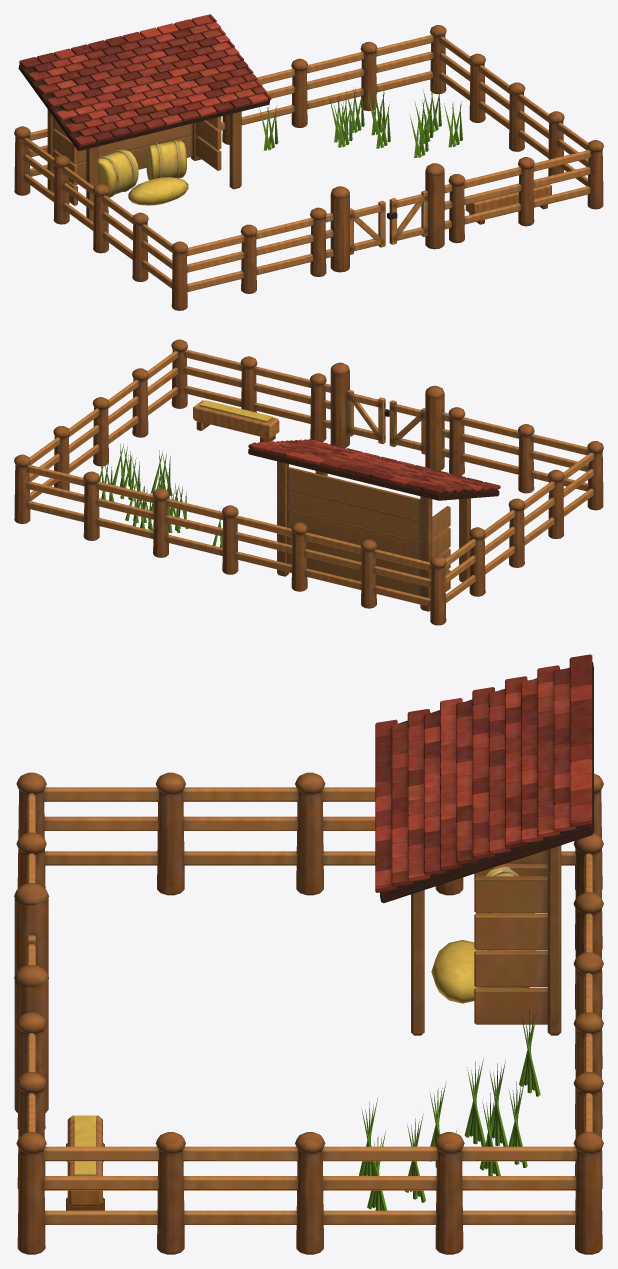
File: pheasant_run.glb
3 views of the same model, one above another, from view 1: azimuth 30°, elevation 25°; view 2: azimuth 150°, elevation 25°; view 3: azimuth 270°, elevation 25° (orthographic). The views are drawn at different scales.
Visible parts, largest first — view 1: pheasant_run, gate1, gate0; view 2: pheasant_run, gate1, gate0; view 3: pheasant_run.
Part boxes in pixels (left/top/right/bottom): pheasant_run: left=14, top=14, right=603, bottom=310; gate1: left=387, top=190, right=428, bottom=244; gate0: left=350, top=200, right=385, bottom=254; pheasant_run: left=14, top=339, right=603, bottom=625; gate1: left=347, top=389, right=389, bottom=444; gate0: left=389, top=400, right=425, bottom=454; pheasant_run: left=14, top=654, right=603, bottom=1254.
Bounding box in the file's own units: 3 × 0.9343 × 2.01.
1 material, 1 textured.
